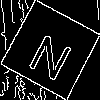N: (25, 24, 79, 83)
